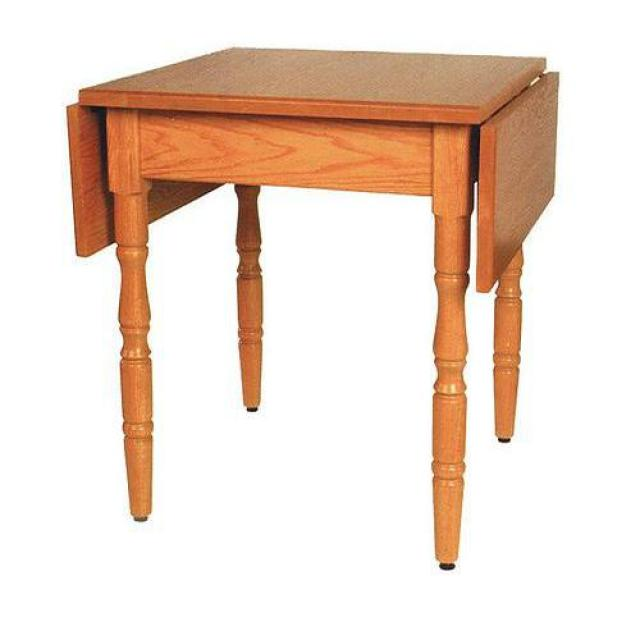table: (65, 49, 561, 571)
